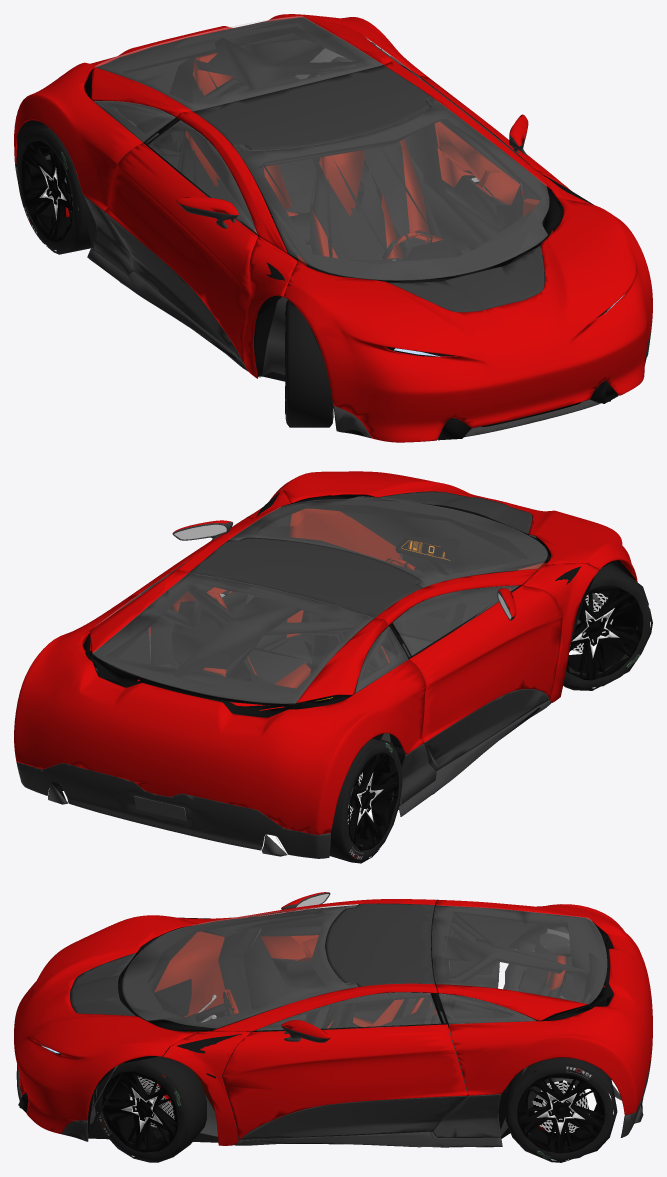
Rendered from car-concept.glb.
3 views of the same model, one above another, from view 1: azimuth 30°, elevation 25°; view 2: azimuth 150°, elevation 25°; view 3: azimuth 270°, elevation 25° (orthographic). The views are drawn at different scales.
Visible parts, largest first — view 1: BodyHood, BodyWindshield, BodyRearwindow, BodyDoorRColor1, BodyRearPanelsColor1, BodyWindshieldGasket, BodyRoofPanel, InteriorSeatsColor2, BodyPillars, InteriorRearHatch, InteriorSeatsColor1, InteriorPillar (+24 smaller); view 2: BodyRearPanelsColor1, BodyRearwindow, BodyWindshield, BodyDoorRColor1, BodyPanelsColor2, BodyRoofPanel, BodyHood, InteriorPillar, InteriorRearHatch, BodyWindshieldGasket, BodyPillars, WheelFrontRRim (+21 smaller); view 3: BodyWindshield, BodyRearPanelsColor1, BodyDoorLColor1, BodyHood, BodyRearwindow, BodyRoofPanel, BodyPillars, BodyWindshieldGasket, BodyDoorLColor2, BodyPanelsColor2, WheelRearLRim, InteriorMid (+26 smaller).
Part boxes in pixels (x1=…): BodyHood: x1=283, y1=198, x2=652, y2=442; BodyWindshield: x1=234, y1=98, x2=549, y2=280; BodyRearwindow: x1=95, y1=16, x2=382, y2=110; BodyDoorRColor1: x1=104, y1=143, x2=257, y2=363; BodyRearPanelsColor1: x1=14, y1=14, x2=428, y2=210; BodyWindshieldGasket: x1=234, y1=99, x2=551, y2=282; BodyRoofPanel: x1=193, y1=65, x2=432, y2=150; InteriorSeatsColor2: x1=180, y1=77, x2=470, y2=259; BodyPillars: x1=176, y1=61, x2=598, y2=378; InteriorRearHatch: x1=97, y1=17, x2=383, y2=116; InteriorSeatsColor1: x1=185, y1=52, x2=443, y2=258; InteriorPillar: x1=165, y1=37, x2=430, y2=169; BodyRearPanelsColor1: x1=14, y1=569, x2=425, y2=834; BodyRearwindow: x1=92, y1=573, x2=373, y2=703; BodyWindshield: x1=229, y1=496, x2=547, y2=587; BodyDoorRColor1: x1=409, y1=585, x2=562, y2=742; BodyPanelsColor2: x1=16, y1=700, x2=550, y2=858; BodyRoofPanel: x1=189, y1=537, x2=422, y2=617; BodyHood: x1=278, y1=471, x2=637, y2=581; InteriorPillar: x1=174, y1=575, x2=417, y2=703; InteriorRearHatch: x1=93, y1=573, x2=384, y2=710; BodyWindshieldGasket: x1=230, y1=496, x2=550, y2=587; BodyPillars: x1=175, y1=489, x2=598, y2=702; WheelFrontRRim: x1=566, y1=585, x2=643, y2=680; BodyWindshield: x1=122, y1=904, x2=357, y2=1028; BodyRearPanelsColor1: x1=436, y1=899, x2=652, y2=1115; BodyDoorLColor1: x1=222, y1=1024, x2=467, y2=1140; BodyHood: x1=14, y1=915, x2=196, y2=1133; BodyRearwindow: x1=432, y1=905, x2=606, y2=1003; BodyRoofPanel: x1=326, y1=903, x2=434, y2=986; BodyPillars: x1=163, y1=899, x2=437, y2=1145; BodyWindshieldGasket: x1=118, y1=905, x2=357, y2=1031; BodyDoorLColor2: x1=240, y1=1096, x2=467, y2=1140; BodyPanelsColor2: x1=16, y1=971, x2=652, y2=1147; WheelRearLRim: x1=517, y1=1071, x2=605, y2=1153; InteriorMid: x1=177, y1=917, x2=499, y2=1144.
Bounding box in the file's own units: 2.54 × 1.15 × 4.36.
Materials: 23 (3 with a texture image).
